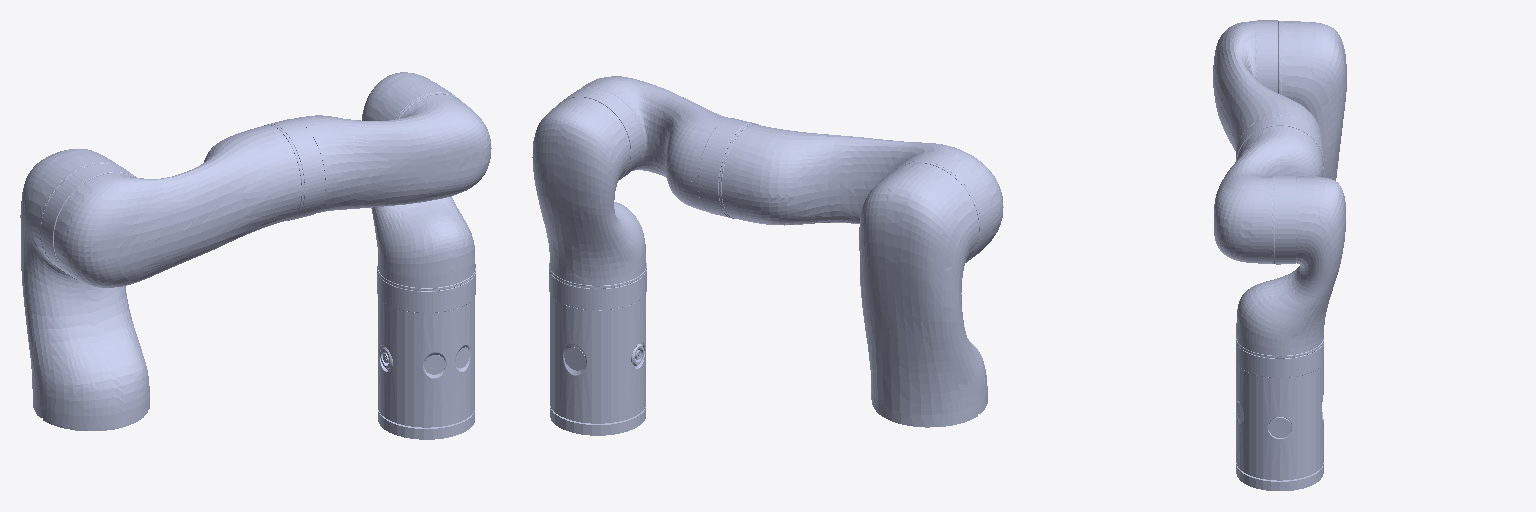
URDF robot description (tl_tcb705f):
<?xml version="1.0" encoding="utf-8"?>
<!-- This URDF was automatically created by SolidWorks to URDF Exporter! Originally created by Stephen Brawner (brawner@gmail.com) 
     Commit Version: 1.6.0-4-g7f85cfe  Build Version: 1.6.7995.38578
     For more information, please see http://wiki.ros.org/sw_urdf_exporter -->
<robot
  name="tl_tcb705f">
  <link
    name="link0">
    <inertial>
      <origin
        xyz="0.000708831292588152 -8.61075349149129E-05 0.0437241147546661"
        rpy="0 0 0" />
      <mass
        value="0.184997778677383" />
      <inertia
        ixx="0.000408655880224899"
        ixy="-6.47925326858513E-07"
        ixz="3.45905947380274E-06"
        iyy="0.000402045698173365"
        iyz="-4.42033155327605E-07"
        izz="0.000394929591269372" />
    </inertial>
    <visual>
      <origin
        xyz="0 0 0"
        rpy="0 0 0" />
      <geometry>
        <mesh
          filename="package://tl_description/meshes/tl_tcb705f/link0.STL" />
      </geometry>
      <material
        name="">
        <color
          rgba="0.792156862745098 0.819607843137255 0.933333333333333 1" />
      </material>
    </visual>
    <collision>
      <origin
        xyz="0 0 0"
        rpy="0 0 0" />
      <geometry>
        <mesh
          filename="package://tl_description/meshes/tl_tcb705f/link0.STL" />
      </geometry>
    </collision>
  </link>
  <link
    name="link1">
    <inertial>
      <origin
        xyz="-1.47467364543795E-05 -0.0147035745839652 0.074170065372986"
        rpy="0 0 0" />
      <mass
        value="0.14078274314442" />
      <inertia
        ixx="0.000389165158363872"
        ixy="7.76850517532585E-09"
        ixz="-3.45965366455443E-08"
        iyy="0.000404601054210795"
        iyz="5.39676858807366E-05"
        izz="0.000158801770197842" />
    </inertial>
    <visual>
      <origin
        xyz="0 0 0"
        rpy="0 0 0" />
      <geometry>
        <mesh
          filename="package://tl_description/meshes/tl_tcb705f/link1.STL" />
      </geometry>
      <material
        name="">
        <color
          rgba="0.792156862745098 0.819607843137255 0.933333333333333 1" />
      </material>
    </visual>
    <collision>
      <origin
        xyz="0 0 0"
        rpy="0 0 0" />
      <geometry>
        <mesh
          filename="package://tl_description/meshes/tl_tcb705f/link1.STL" />
      </geometry>
    </collision>
  </link>
  <joint
    name="joint1"
    type="revolute">
    <origin
      xyz="0 0 0.11455"
      rpy="0 0 0" />
    <parent
      link="link0" />
    <child
      link="link1" />
    <axis
      xyz="0 0 1" />
    <limit
      lower="-3.1416"
      upper="3.1416"
      effort="0"
      velocity="0" />
  </joint>
  <link
    name="link2">
    <inertial>
      <origin
        xyz="8.61535466718018E-06 -0.0560508787266448 0.0117257364090613"
        rpy="0 0 0" />
      <mass
        value="0.124463620303859" />
      <inertia
        ixx="0.000370601578271224"
        ixy="-9.27831113208387E-09"
        ixz="-9.42550205169074E-09"
        iyy="0.000121246909389466"
        iyz="-7.13455520508631E-05"
        izz="0.000380204304484532" />
    </inertial>
    <visual>
      <origin
        xyz="0 0 0"
        rpy="0 0 0" />
      <geometry>
        <mesh
          filename="package://tl_description/meshes/tl_tcb705f/link2.STL" />
      </geometry>
      <material
        name="">
        <color
          rgba="0.792156862745098 0.819607843137255 0.933333333333333 1" />
      </material>
    </visual>
    <collision>
      <origin
        xyz="0 0 0"
        rpy="0 0 0" />
      <geometry>
        <mesh
          filename="package://tl_description/meshes/tl_tcb705f/link2.STL" />
      </geometry>
    </collision>
  </link>
  <joint
    name="joint2"
    type="revolute">
    <origin
      xyz="0 0.00715 0.12745"
      rpy="-1.5708 0 0" />
    <parent
      link="link1" />
    <child
      link="link2" />
    <axis
      xyz="0 0 1" />
    <limit
      lower="-2.4086"
      upper="2.4086"
      effort="0"
      velocity="0" />
  </joint>
  <link
    name="link3">
    <inertial>
      <origin
        xyz="-0.000129631315073277 0.0129892407646547 0.0730749657672627"
        rpy="0 0 0" />
      <mass
        value="0.114590469364388" />
      <inertia
        ixx="0.000277982717731438"
        ixy="-1.69536546152647E-07"
        ixz="9.64200178666297E-07"
        iyy="0.000287463601314177"
        iyz="-3.76358084293264E-05"
        izz="9.72113083114317E-05" />
    </inertial>
    <visual>
      <origin
        xyz="0 0 0"
        rpy="0 0 0" />
      <geometry>
        <mesh
          filename="package://tl_description/meshes/tl_tcb705f/link3.STL" />
      </geometry>
      <material
        name="">
        <color
          rgba="0.792156862745098 0.819607843137255 0.933333333333333 1" />
      </material>
    </visual>
    <collision>
      <origin
        xyz="0 0 0"
        rpy="0 0 0" />
      <geometry>
        <mesh
          filename="package://tl_description/meshes/tl_tcb705f/link3.STL" />
      </geometry>
    </collision>
  </link>
  <joint
    name="joint3"
    type="revolute">
    <origin
      xyz="0 -0.14065 -0.00715"
      rpy="1.5708 0 0" />
    <parent
      link="link2" />
    <child
      link="link3" />
    <axis
      xyz="0 0 1" />
    <limit
      lower="-3.1416"
      upper="3.1416"
      effort="0"
      velocity="0" />
  </joint>
  <link
    name="link4">
    <inertial>
      <origin
        xyz="-6.48637541245885E-06 0.0577535050715413 0.00898472400124507"
        rpy="0 0 0" />
      <mass
        value="0.0945260952124885" />
      <inertia
        ixx="0.000237785884377793"
        ixy="5.30816348665305E-08"
        ixz="-1.06494690837427E-09"
        iyy="6.42616764257504E-05"
        iyz="4.6031658840996E-05"
        izz="0.000240859360083395" />
    </inertial>
    <visual>
      <origin
        xyz="0 0 0"
        rpy="0 0 0" />
      <geometry>
        <mesh
          filename="package://tl_description/meshes/tl_tcb705f/link4.STL" />
      </geometry>
      <material
        name="">
        <color
          rgba="0.792156862745098 0.819607843137255 0.933333333333333 1" />
      </material>
    </visual>
    <collision>
      <origin
        xyz="0 0 0"
        rpy="0 0 0" />
      <geometry>
        <mesh
          filename="package://tl_description/meshes/tl_tcb705f/link4.STL" />
      </geometry>
    </collision>
  </link>
  <joint
    name="joint4"
    type="revolute">
    <origin
      xyz="0 -0.0081500000143419 0.129350000003041"
      rpy="1.5708 1.5708 0" />
    <parent
      link="link3" />
    <child
      link="link4" />
    <axis
      xyz="0 0 -1" />
    <limit
      lower="-4.0666"
      upper="0.9250"
      effort="0"
      velocity="0" />
  </joint>
  <link
    name="link5">
    <inertial>
      <origin
        xyz="1.01606647688153E-05 -0.0129940465321856 0.0554923015741177"
        rpy="0 0 0" />
      <mass
        value="0.0720848913335696" />
      <inertia
        ixx="0.00010541499479421"
        ixy="1.2105445711369E-08"
        ixz="2.49403917902727E-09"
        iyy="0.000106134789383844"
        iyz="1.86457255781179E-05"
        izz="4.55695578763409E-05" />
    </inertial>
    <visual>
      <origin
        xyz="0 0 0"
        rpy="0 0 0" />
      <geometry>
        <mesh
          filename="package://tl_description/meshes/tl_tcb705f/link5.STL" />
      </geometry>
      <material
        name="">
        <color
          rgba="0.792156862745098 0.819607843137255 0.933333333333333 1" />
      </material>
    </visual>
    <collision>
      <origin
        xyz="0 0 0"
        rpy="0 0 0" />
      <geometry>
        <mesh
          filename="package://tl_description/meshes/tl_tcb705f/link5.STL" />
      </geometry>
    </collision>
  </link>
  <joint
    name="joint5"
    type="revolute">
    <origin
      xyz="0 0.13665 -0.00815"
      rpy="-1.5708 0 0" />
    <parent
      link="link4" />
    <child
      link="link5" />
    <axis
      xyz="0 0 1" />
    <limit
      lower="-3.1416"
      upper="3.1416"
      effort="0"
      velocity="0" />
  </joint>
  <link
    name="link6">
    <inertial>
      <origin
        xyz="-1.08654065955853E-06 -0.0369306924078477 0.012218137744383"
        rpy="0 0 0" />
      <mass
        value="0.0641129925895538" />
      <inertia
        ixx="9.88028775725866E-05"
        ixy="7.57141112075589E-09"
        ixz="-3.11343420018772E-09"
        iyy="4.10033963262003E-05"
        iyz="-2.10914786481659E-05"
        izz="9.7376967742281E-05" />
    </inertial>
    <visual>
      <origin
        xyz="0 0 0"
        rpy="0 0 0" />
      <geometry>
        <mesh
          filename="package://tl_description/meshes/tl_tcb705f/link6.STL" />
      </geometry>
      <material
        name="">
        <color
          rgba="0.792156862745098 0.819607843137255 0.933333333333333 1" />
      </material>
    </visual>
    <collision>
      <origin
        xyz="0 0 0"
        rpy="0 0 0" />
      <geometry>
        <mesh
          filename="package://tl_description/meshes/tl_tcb705f/link6.STL" />
      </geometry>
    </collision>
  </link>
  <joint
    name="joint6"
    type="revolute">
    <origin
      xyz="0 0.00365 0.09335"
      rpy="-1.5708 1.5708 0" />
    <parent
      link="link5" />
    <child
      link="link6" />
    <axis
      xyz="0 0 1" />
    <limit
      lower="-3.8921"
      upper="0.7505"
      effort="0"
      velocity="0" />
  </joint>
  <link
    name="link7">
    <inertial>
      <origin
        xyz="0.000187652718789636 -3.81808440156201E-05 0.0579325760779312"
        rpy="0 0 0" />
      <mass
        value="0.12684149820276" />
      <inertia
        ixx="0.000104196463921777"
        ixy="-1.52205852811246E-08"
        ixz="2.97327898167419E-07"
        iyy="0.000105247821718726"
        iyz="-3.40270046740776E-08"
        izz="6.69703532322668E-05" />
    </inertial>
    <visual>
      <origin
        xyz="0 0 0"
        rpy="0 0 0" />
      <geometry>
        <mesh
          filename="package://tl_description/meshes/tl_tcb705f/link7.STL" />
      </geometry>
      <material
        name="">
        <color
          rgba="0.792156862745098 0.819607843137255 0.933333333333333 1" />
      </material>
    </visual>
    <collision>
      <origin
        xyz="0 0 0"
        rpy="0 0 0" />
      <geometry>
        <mesh
          filename="package://tl_description/meshes/tl_tcb705f/link7.STL" />
      </geometry>
    </collision>
  </link>
  <joint
    name="joint7"
    type="revolute">
    <origin
      xyz="0 -0.09515 -0.00365"
      rpy="1.5708 0 0" />
    <parent
      link="link6" />
    <child
      link="link7" />
    <axis
      xyz="0 0 1" />
    <limit
      lower="-3.1416"
      upper="3.1416"
      effort="0"
      velocity="0" />
  </joint>
</robot>

--- Facts derived from the render (not from the file) ---
3 views of the same robot in one strip: view 1: azimuth 30°, elevation 25°; view 2: azimuth 150°, elevation 25°; view 3: azimuth 270°, elevation 25° (orthographic).
Robot: tl_tcb705f — 8 links, 7 joints (7 revolute); root link link0; default pose: every joint at zero.
Links seen in each view (by area): view 1: link4, link3, link5, link7, link6; view 2: link3, link6, link4, link7, link5; view 3: link6, link5, link7, link3, link4.
Boxes of the visible links, x1,y1,x2,y2 form: link4: (54,119,325,287); link3: (20,149,149,430); link5: (294,84,491,212); link7: (378,297,474,439); link6: (362,72,475,312); link3: (859,152,992,427); link6: (532,97,646,309); link4: (698,118,1003,246); link7: (550,294,645,435); link5: (558,76,728,211); link6: (1236,176,1345,377); link5: (1214,126,1323,263); link7: (1236,363,1323,490); link3: (1257,20,1346,264); link4: (1213,21,1323,171).
Bounding box of the posed robot: 0.2948 × 0.089 × 0.2209 m (x, y, z).
5 mesh visuals loaded from 8 distinct referenced files (5 binary STL); not drawn: 3 (reference not matched to a file when rendering).
